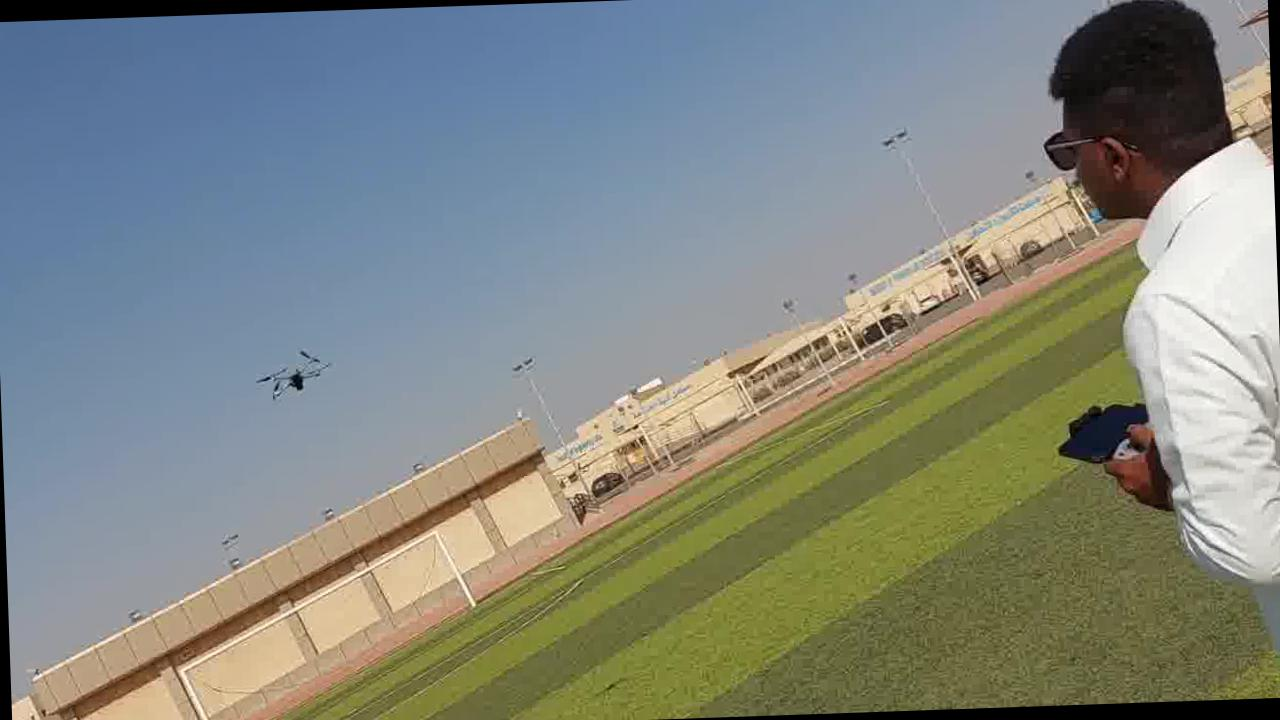drone: (241, 334, 332, 406)
